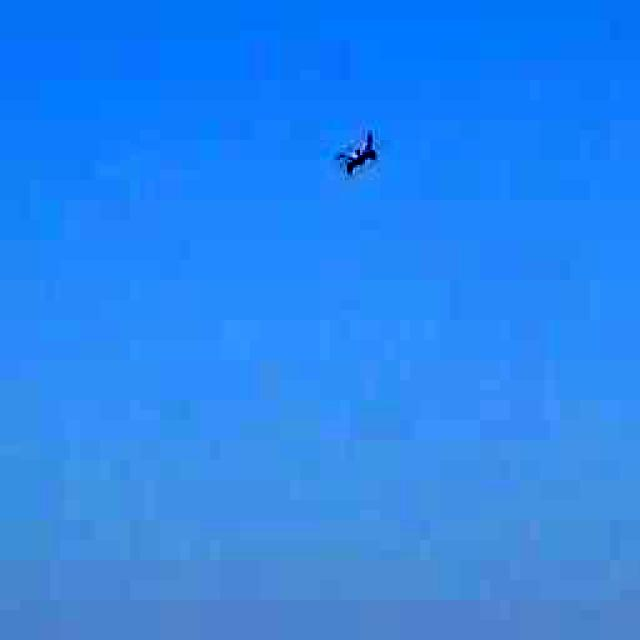bird: (295, 110, 420, 198)
